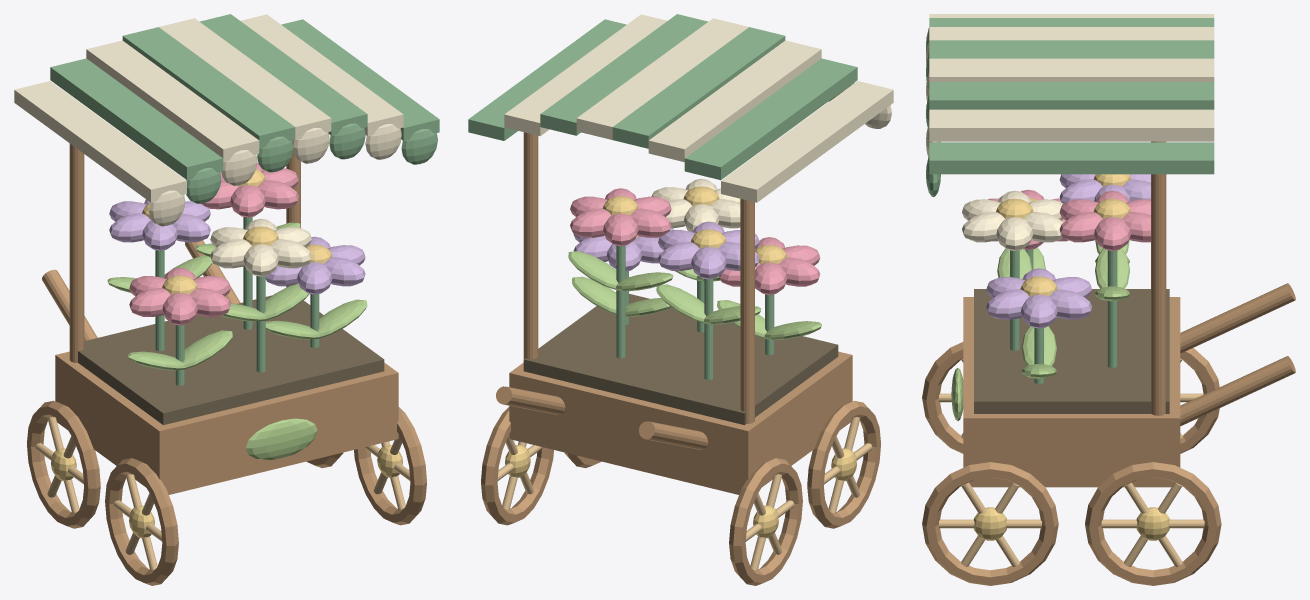
The model's file is FlowerCart.fbx.
3 renders of one model, left to right at view 1: azimuth 30°, elevation 25°; view 2: azimuth 150°, elevation 25°; view 3: azimuth 270°, elevation 25°, orthographic. The views are drawn at different scales.
Parts seen in each view (by area): view 1: FlowerCart_Collection honey oak, FlowerCart_Collection ivory, FlowerCart_Collection sage, FlowerCart_Collection shadow, FlowerCart_Collection fresh leaf, FlowerCart_Collection rose, FlowerCart_Collection lavender, FlowerCart_Collection pale oak, FlowerCart_Collection warm brass; view 2: FlowerCart_Collection honey oak, FlowerCart_Collection ivory, FlowerCart_Collection sage, FlowerCart_Collection shadow, FlowerCart_Collection rose, FlowerCart_Collection fresh leaf, FlowerCart_Collection lavender, FlowerCart_Collection warm brass, FlowerCart_Collection pale oak; view 3: FlowerCart_Collection honey oak, FlowerCart_Collection sage, FlowerCart_Collection ivory, FlowerCart_Collection shadow, FlowerCart_Collection lavender, FlowerCart_Collection pale oak, FlowerCart_Collection fresh leaf, FlowerCart_Collection rose, FlowerCart_Collection warm brass.
Part boxes in pixels (<box>): FlowerCart_Collection honey oak: <box>27,140,426,585</box>; FlowerCart_Collection ivory: <box>14,14,403,276</box>; FlowerCart_Collection sage: <box>50,14,439,385</box>; FlowerCart_Collection shadow: <box>78,295,384,424</box>; FlowerCart_Collection fresh leaf: <box>107,222,367,460</box>; FlowerCart_Collection rose: <box>129,163,298,325</box>; FlowerCart_Collection lavender: <box>109,199,365,294</box>; FlowerCart_Collection pale oak: <box>35,417,410,570</box>; FlowerCart_Collection warm brass: <box>51,169,402,538</box>; FlowerCart_Collection honey oak: <box>481,132,880,585</box>; FlowerCart_Collection ivory: <box>504,14,893,232</box>; FlowerCart_Collection sage: <box>468,14,857,379</box>; FlowerCart_Collection shadow: <box>523,292,838,424</box>; FlowerCart_Collection rose: <box>570,188,820,294</box>; FlowerCart_Collection fresh leaf: <box>568,251,821,339</box>; FlowerCart_Collection lavender: <box>573,221,759,279</box>; FlowerCart_Collection warm brass: <box>505,186,856,538</box>; FlowerCart_Collection pale oak: <box>497,417,872,570</box>; FlowerCart_Collection honey oak: <box>922,141,1295,585</box>; FlowerCart_Collection sage: <box>926,18,1214,383</box>; FlowerCart_Collection ivory: <box>926,14,1214,250</box>; FlowerCart_Collection shadow: <box>974,289,1169,413</box>; FlowerCart_Collection lavender: <box>986,174,1150,328</box>; FlowerCart_Collection pale oak: <box>939,359,1204,566</box>; FlowerCart_Collection fresh leaf: <box>951,240,1129,420</box>; FlowerCart_Collection rose: <box>987,189,1150,250</box>; FlowerCart_Collection warm brass: <box>973,174,1169,540</box>.
Bounding box in the file's own units: 128 × 189 × 138.
